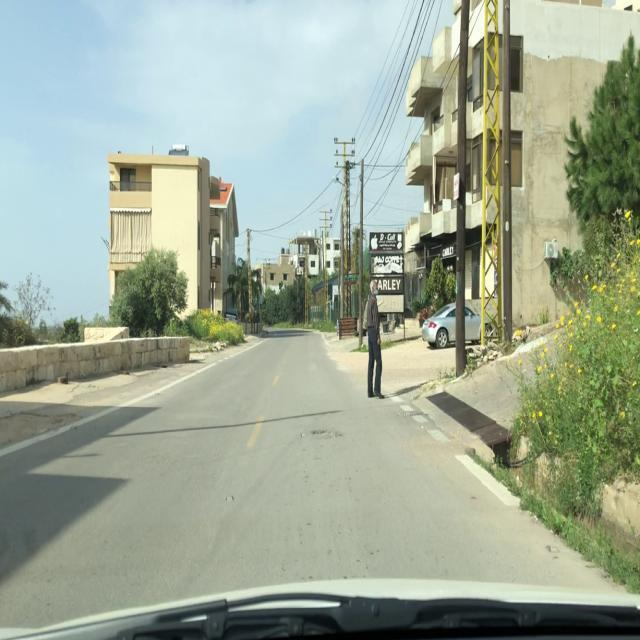pothole: (299, 427, 345, 441)
